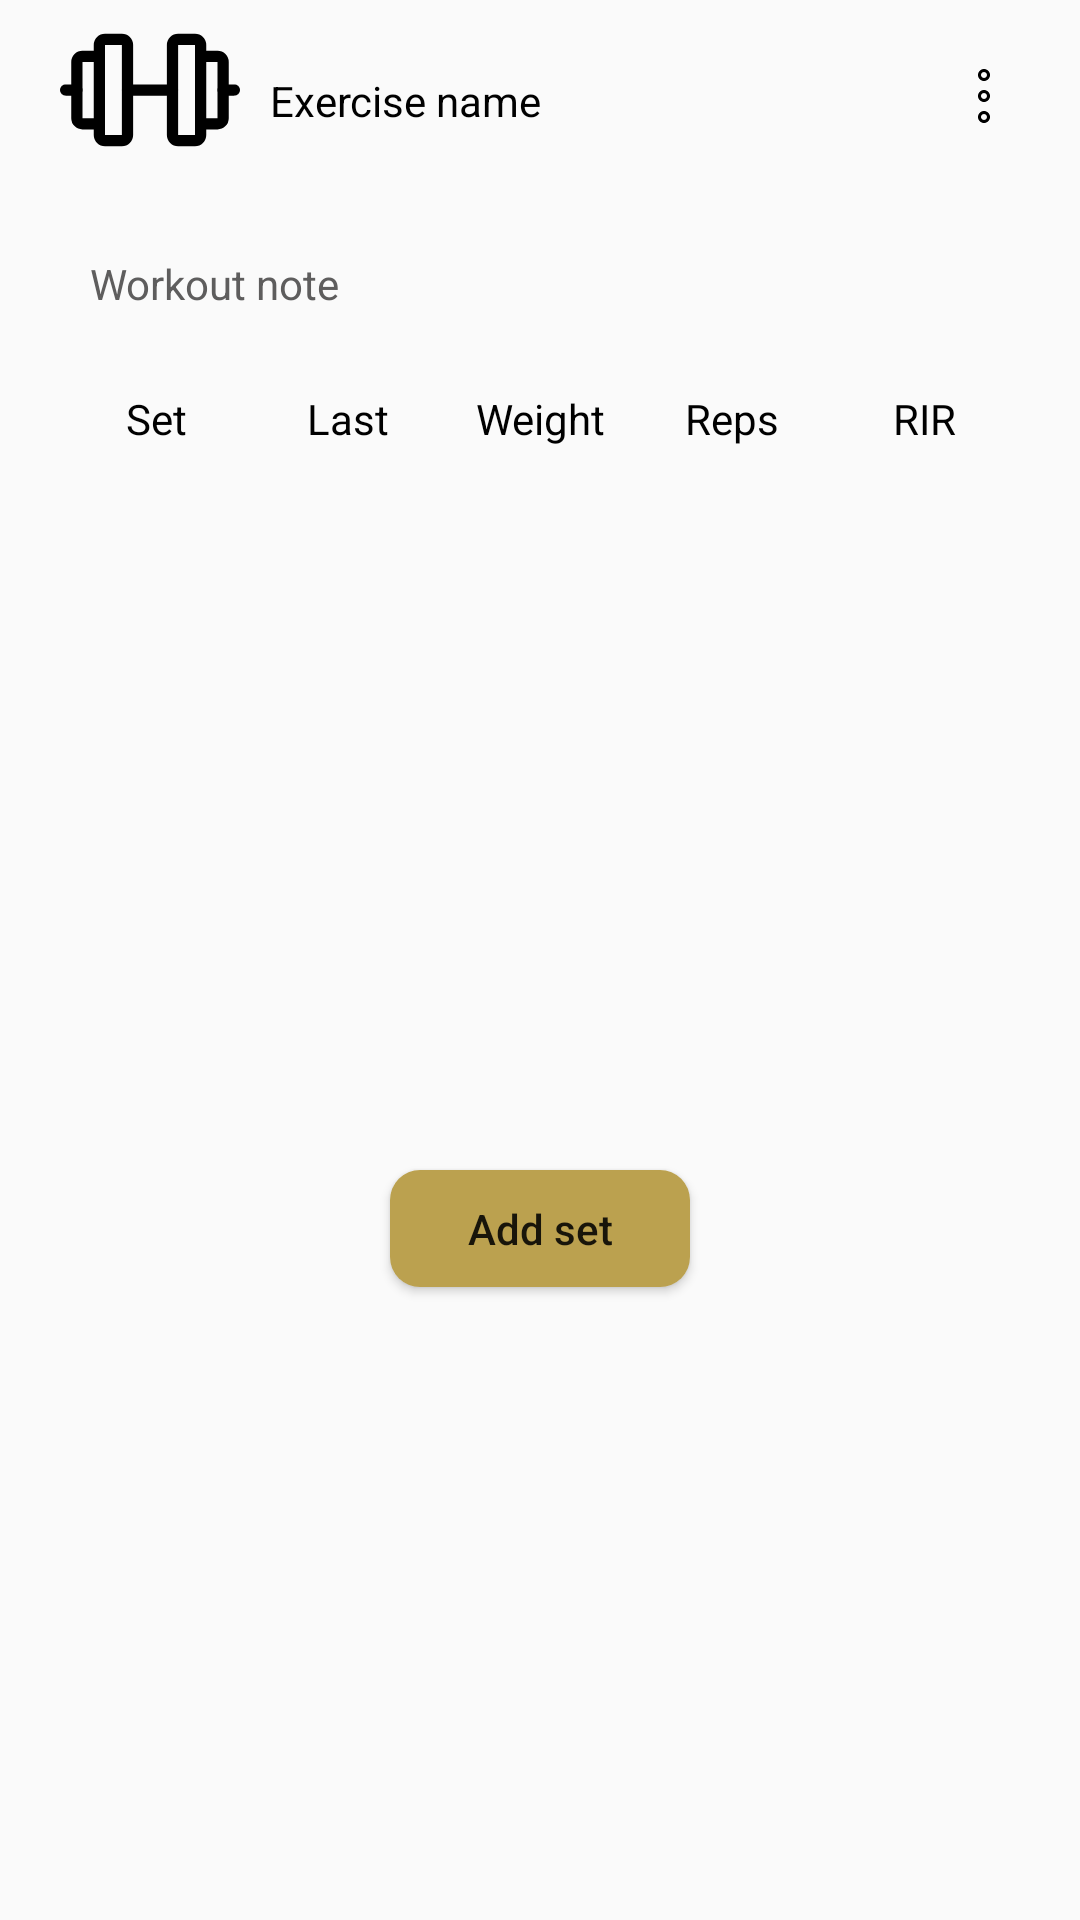

Icon click points for this 1080w x 1920h phone screenshot, format (x,y):
barbell: (150,90)
menu: (984,96)
